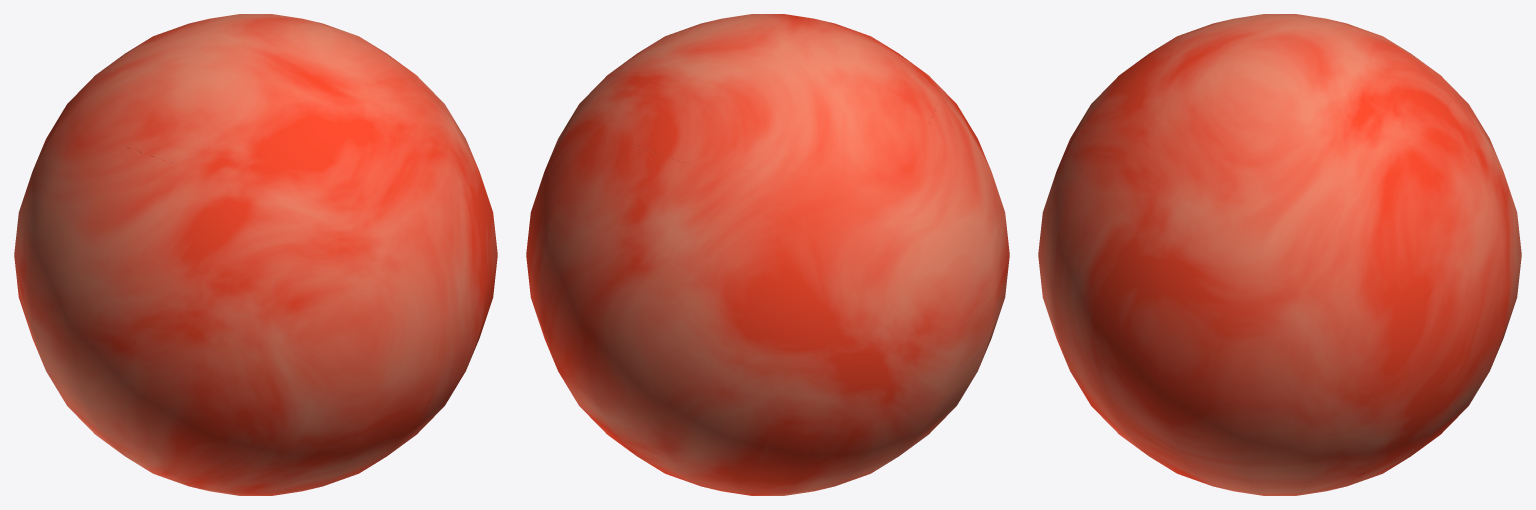
File: planets2 (2).fbx
3 views of the same model, side by side, from view 1: azimuth 30°, elevation 25°; view 2: azimuth 150°, elevation 25°; view 3: azimuth 270°, elevation 25° (orthographic).
Visible parts, largest first — view 1: Sphere; view 2: Sphere; view 3: Sphere.
Boxes of the visible parts, bbox=[...] form: Sphere: bbox=[14, 14, 497, 495]; Sphere: bbox=[526, 14, 1009, 495]; Sphere: bbox=[1038, 14, 1521, 495].
Size of the model in its own units: 197 by 200 by 200.
Materials: 1 (1 with a texture image).
